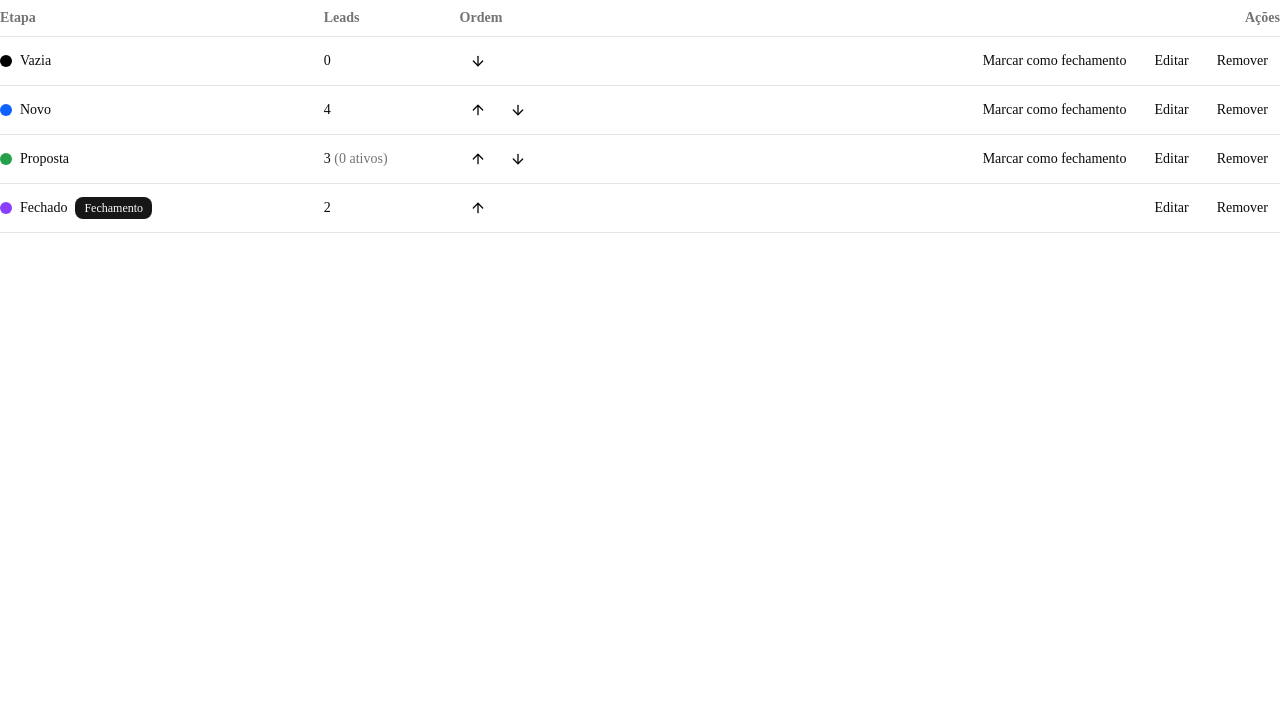
Test: EtapasTable — exclusão › etapa SEM lead nenhum não pede destino
The width and height of the screenshot is (1280, 720).
Click the button with aria-label "Remover etapa". click: (1242, 61)
box: x1=1205 y1=45 x2=1279 y2=77
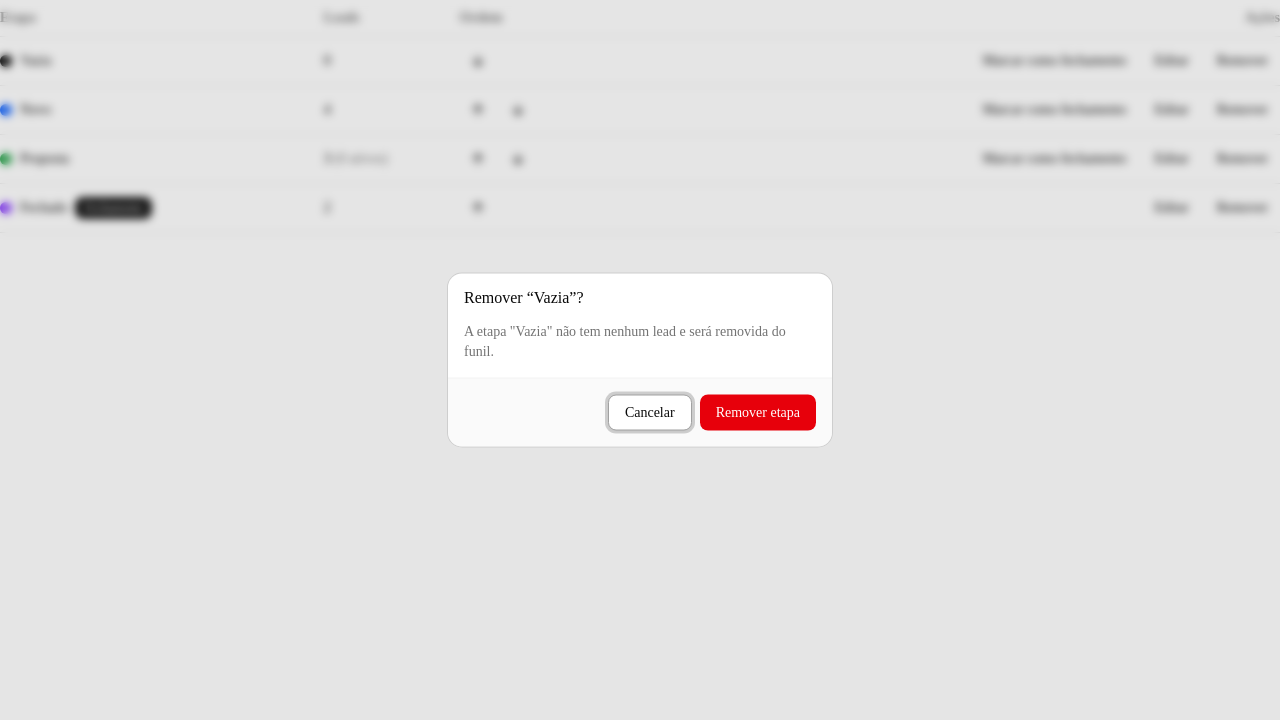
Check: the button "Remover etapa" is shown, box x1=700 y1=394 x2=816 y2=430
